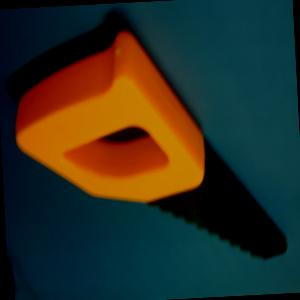serrote: (7, 20, 288, 273)
